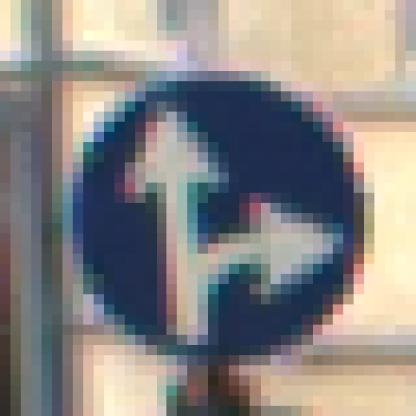Straight or Right: (53, 62, 365, 366)
